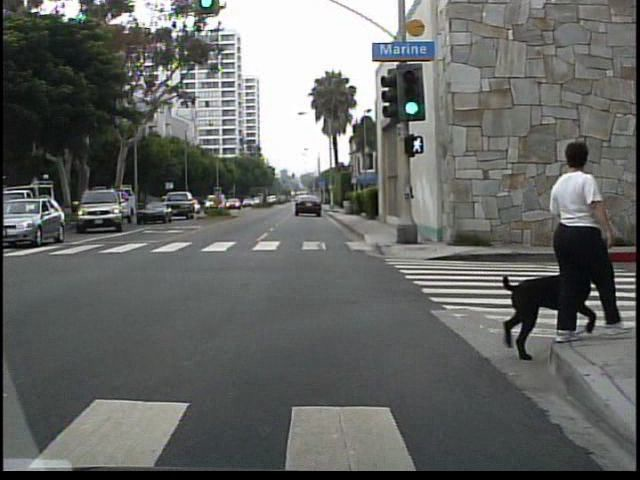person: (543, 140, 620, 338)
